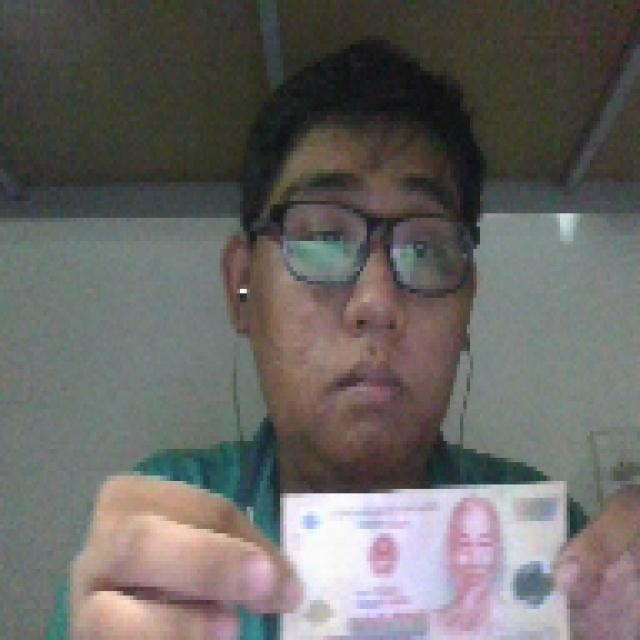200 000 VND: (274, 476, 574, 636)
